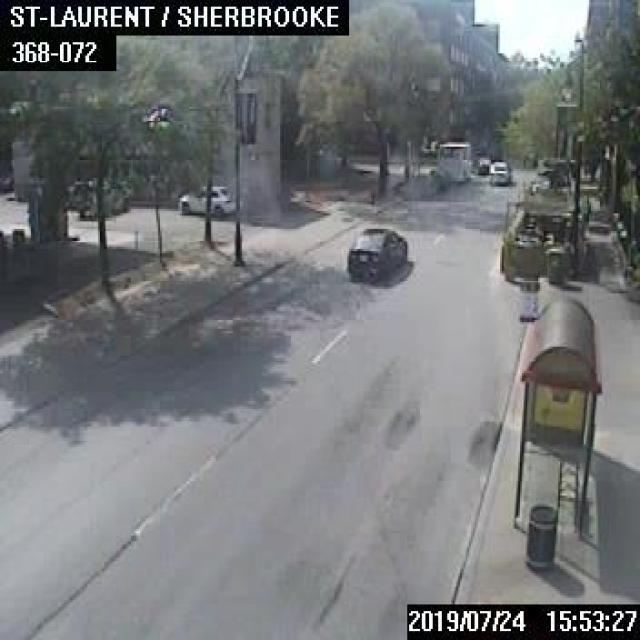vehicle: (346, 226, 408, 280), (68, 176, 128, 217), (177, 184, 234, 213), (435, 141, 470, 179), (488, 159, 510, 184), (477, 156, 489, 173)
